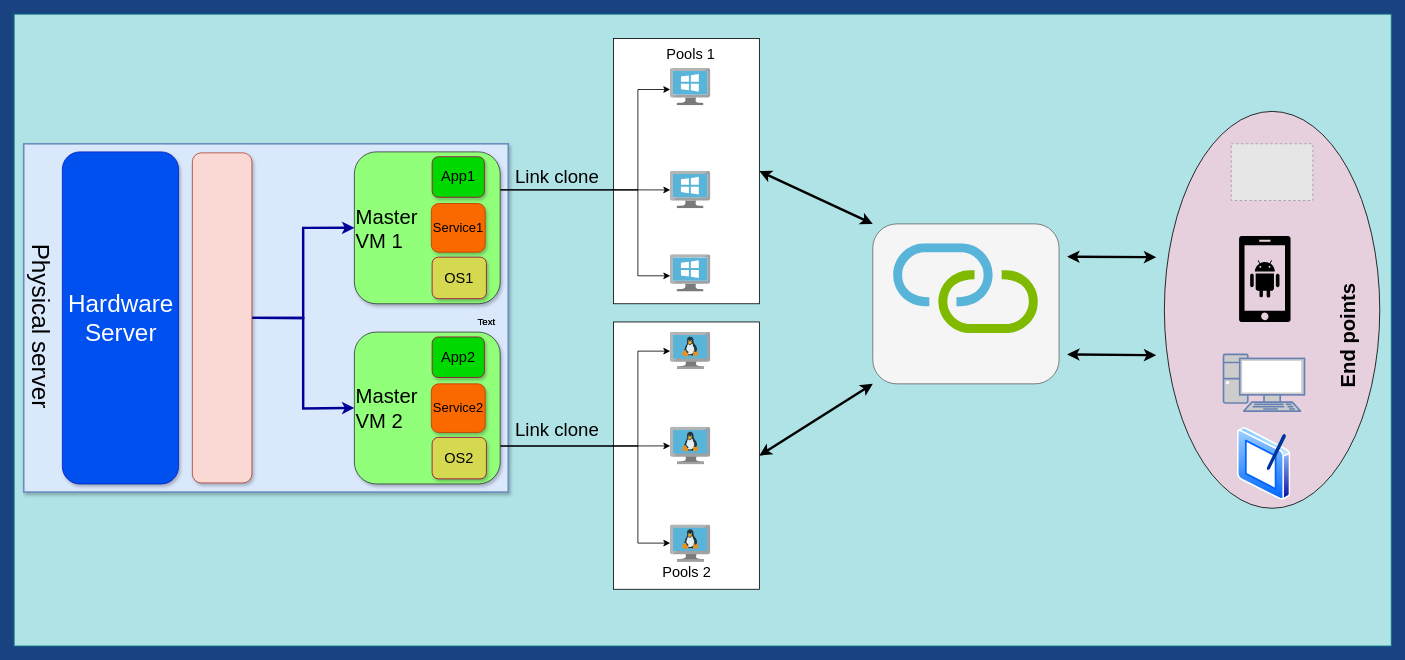
Some shapes in this 1405 by 660 pixel diagram are drawn without their labels. Grey dashed boxes stand in for pictures. The shapes that lost their labels are listed below. From the top down, each one's centre as x and y in pixels, then its label:
At (965,288): "Connection Broker".
At (222,318): "Hypervisor".
